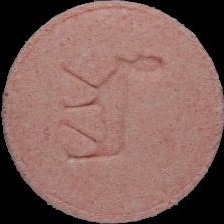0169-0084: (0, 0, 224, 224)
